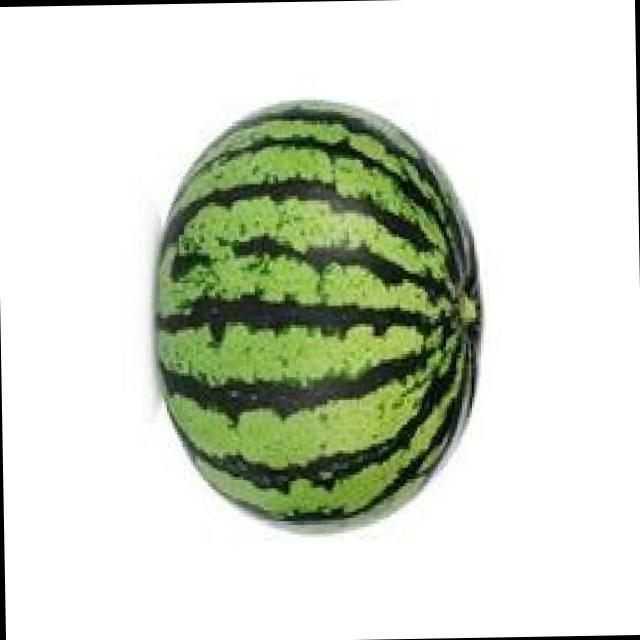watermelon: (153, 101, 481, 531)
